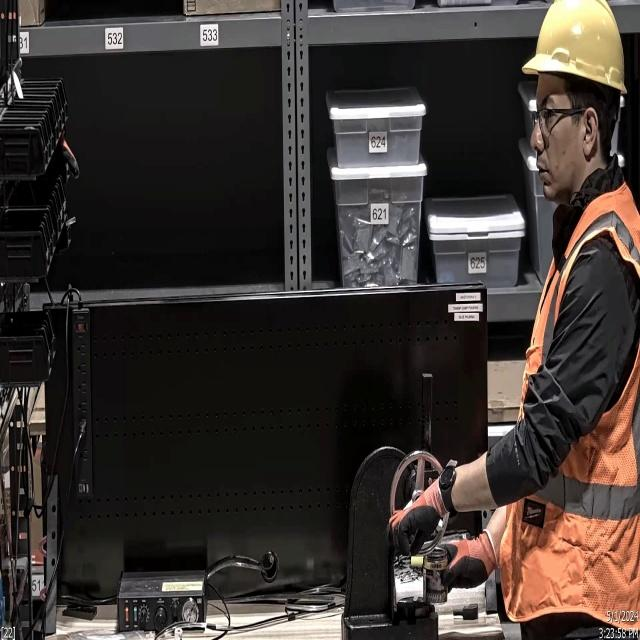construction-gloves: (384, 456, 468, 560), (419, 528, 506, 606)
